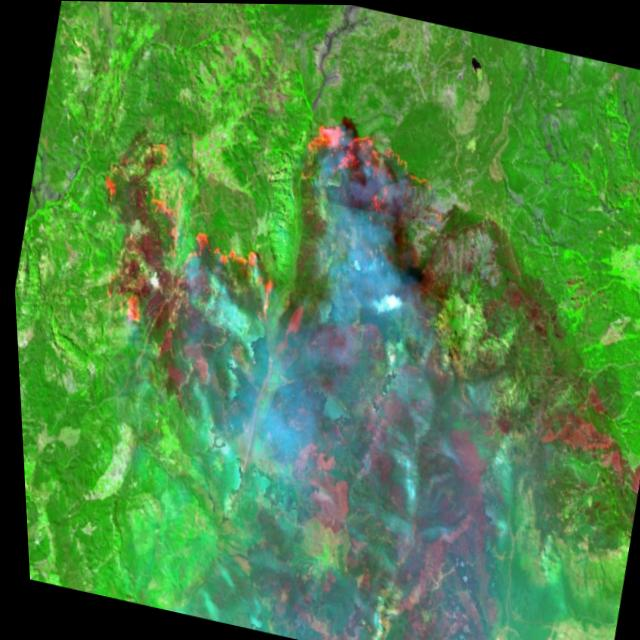fire: (61, 124, 291, 379), (281, 93, 463, 230)
